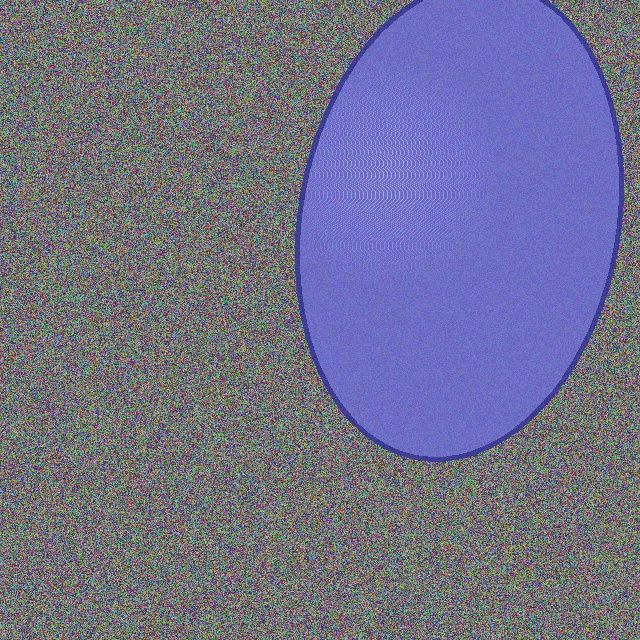lens: (297, 0, 621, 457)
